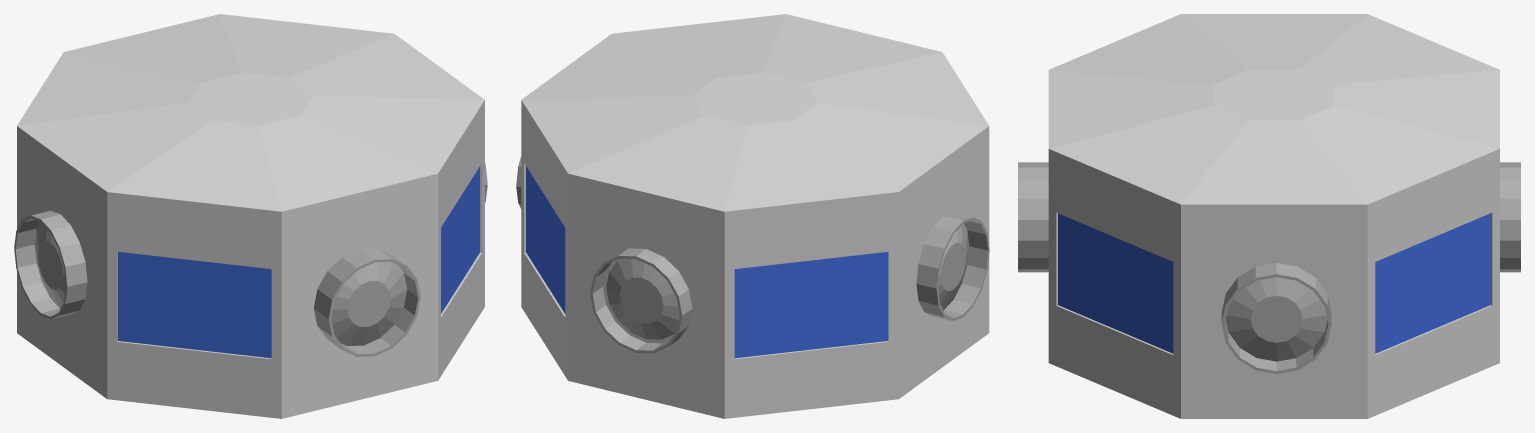
File: Command.glb
3 renders of one model, left to right at view 1: azimuth 30°, elevation 25°; view 2: azimuth 150°, elevation 25°; view 3: azimuth 270°, elevation 25°, orthographic. The views are drawn at different scales.
Parts seen in each view (by area): view 1: Circle.002; view 2: Circle.002; view 3: Circle.002.
Part boxes in pixels (x1=…): Circle.002: x1=14, y1=14, x2=487, y2=418; Circle.002: x1=516, y1=14, x2=989, y2=418; Circle.002: x1=1018, y1=14, x2=1520, y2=418.
Size of the model in its own units: 2.71 by 1.48 by 2.71.
